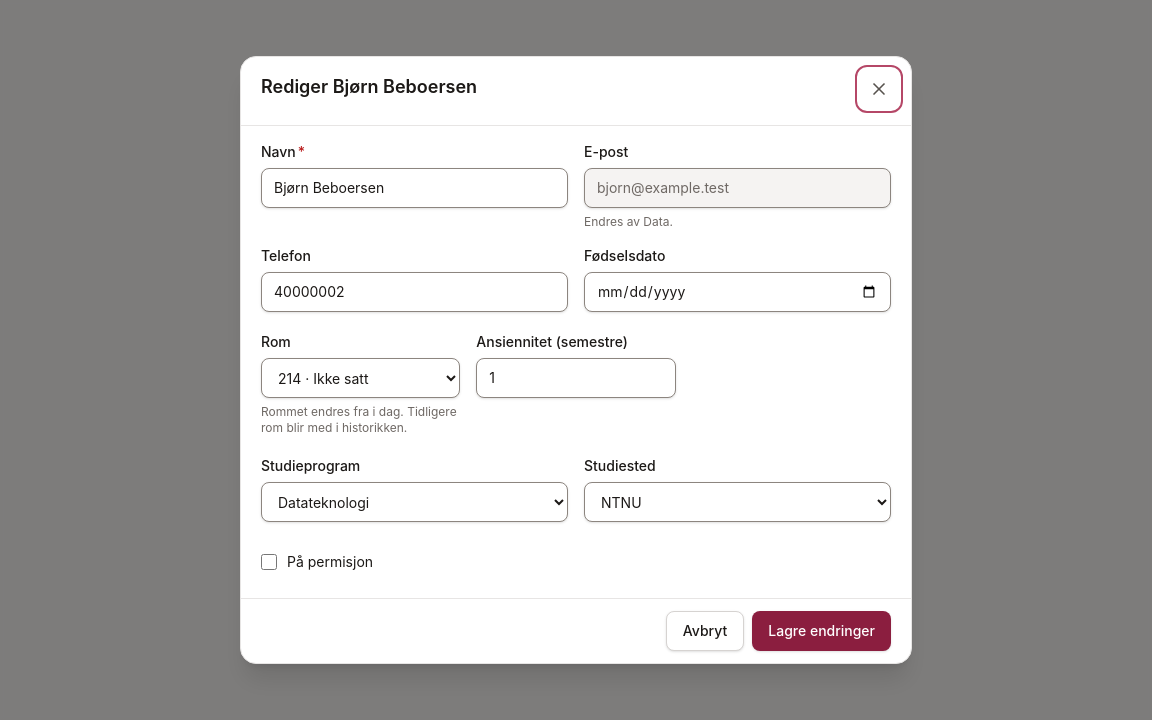
Test: EditResidentSheet › does not save anything when the room is refused
Select "150 · Liten parhybel" in the dropdown labelled "Rom" at [361, 378], box [261,358,460,398]
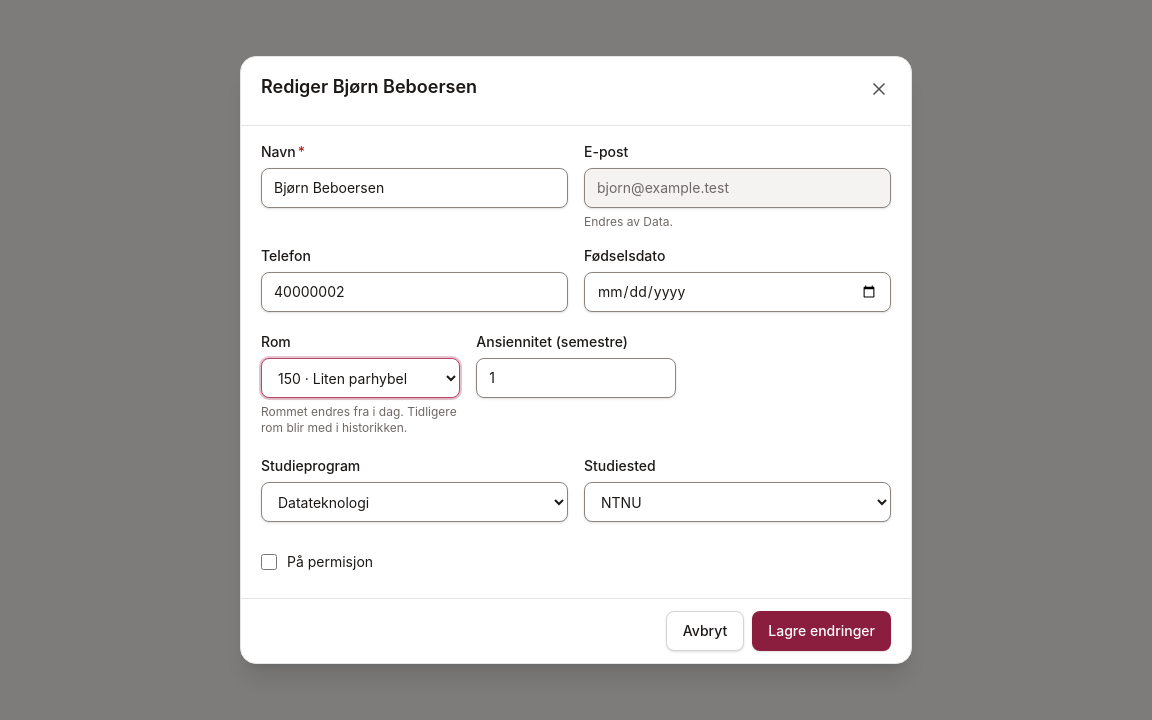
Click the button "Lagre endringer" at [822, 631], box [752,611,891,651]
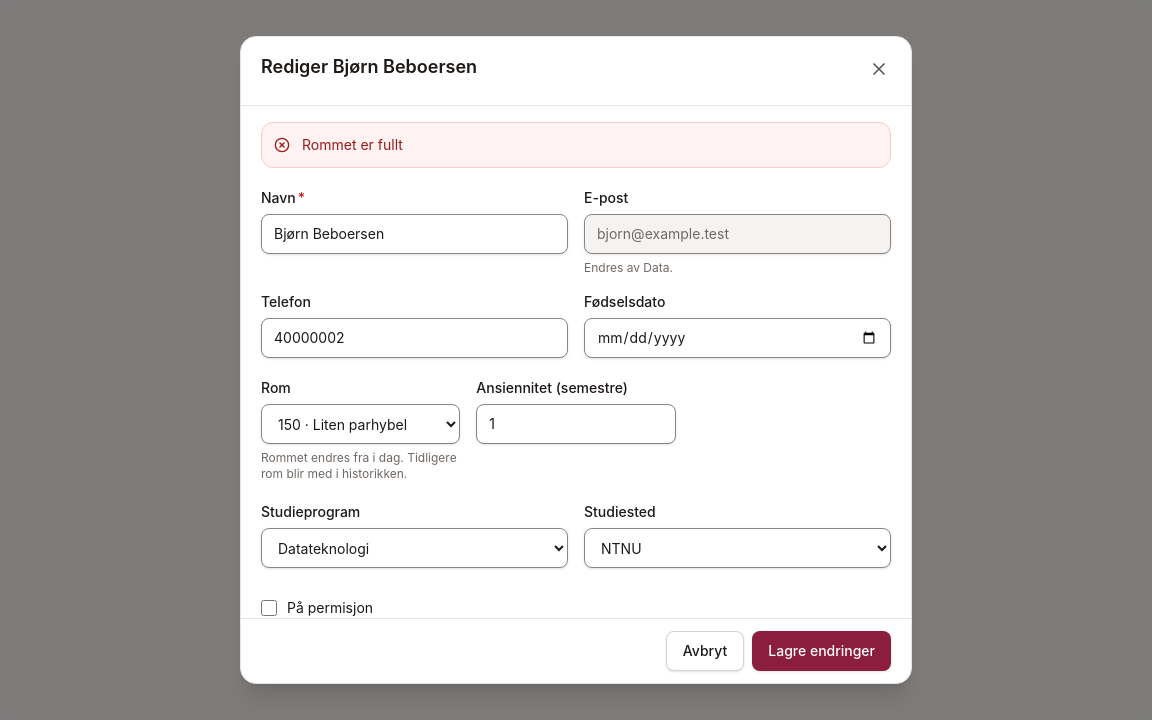
Expected: the text "Rommet er fullt" is shown, [302,136,403,153]
